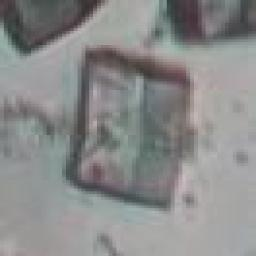crystals: (61, 46, 196, 213)
